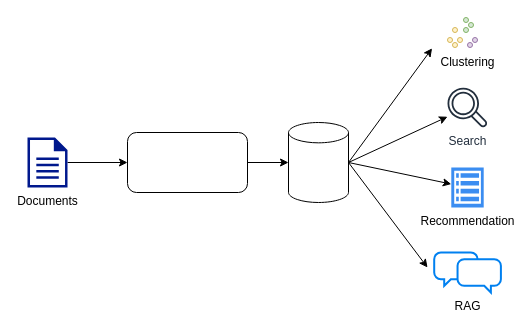
Some shapes in this 532 by 331 pixel diagram are drawn without their labels. Each missing label, with the box of its shape:
Embedding Pipeline: (126, 132, 248, 192)
Vector Store: (288, 122, 348, 202)
